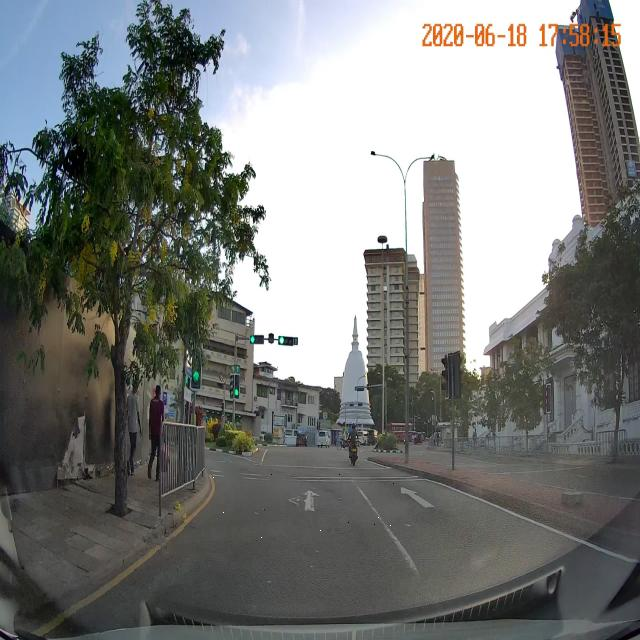forward_lft: (185, 471, 395, 538)
